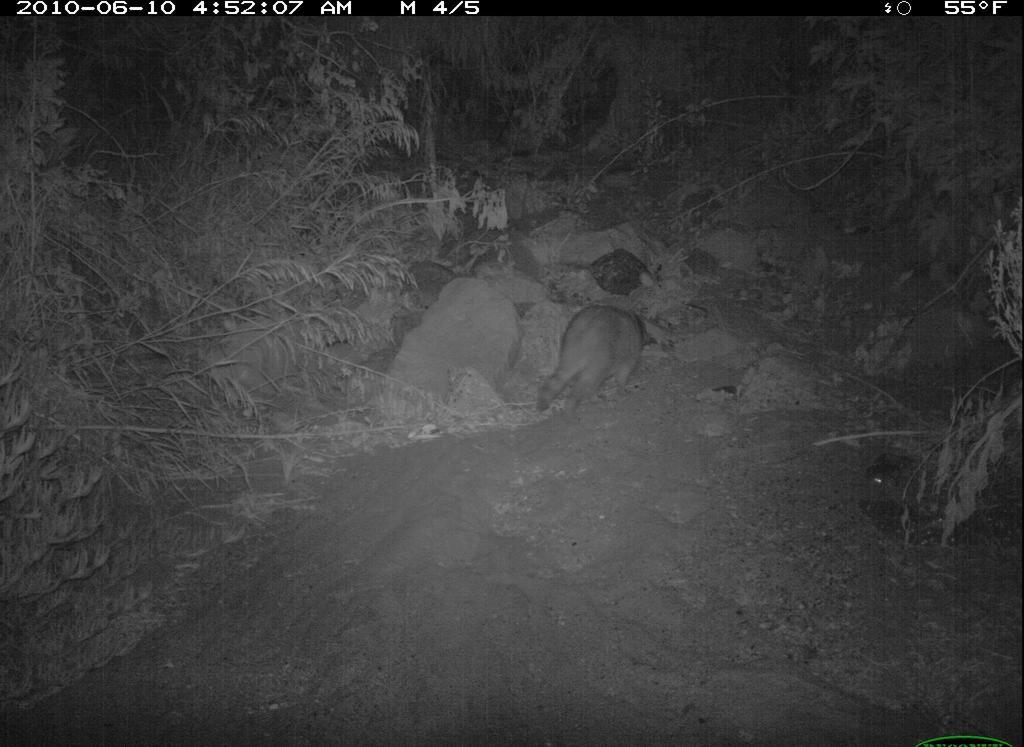raccoon: (528, 291, 669, 427)
